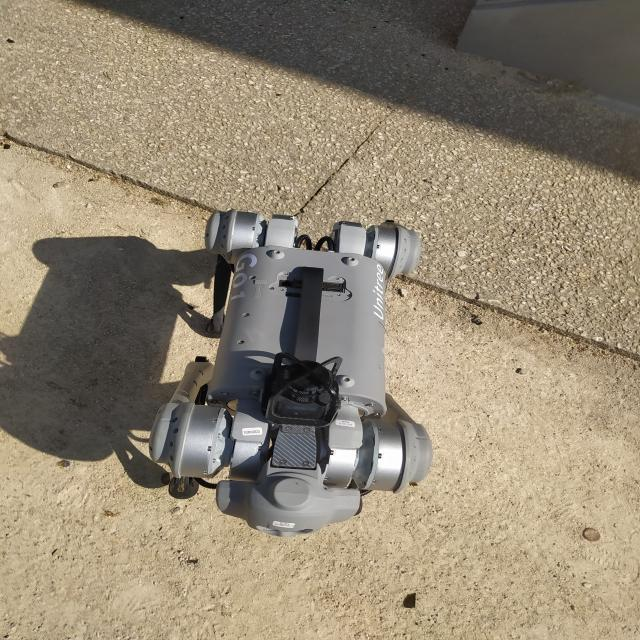unitree-go1-robot: (138, 210, 435, 538)
